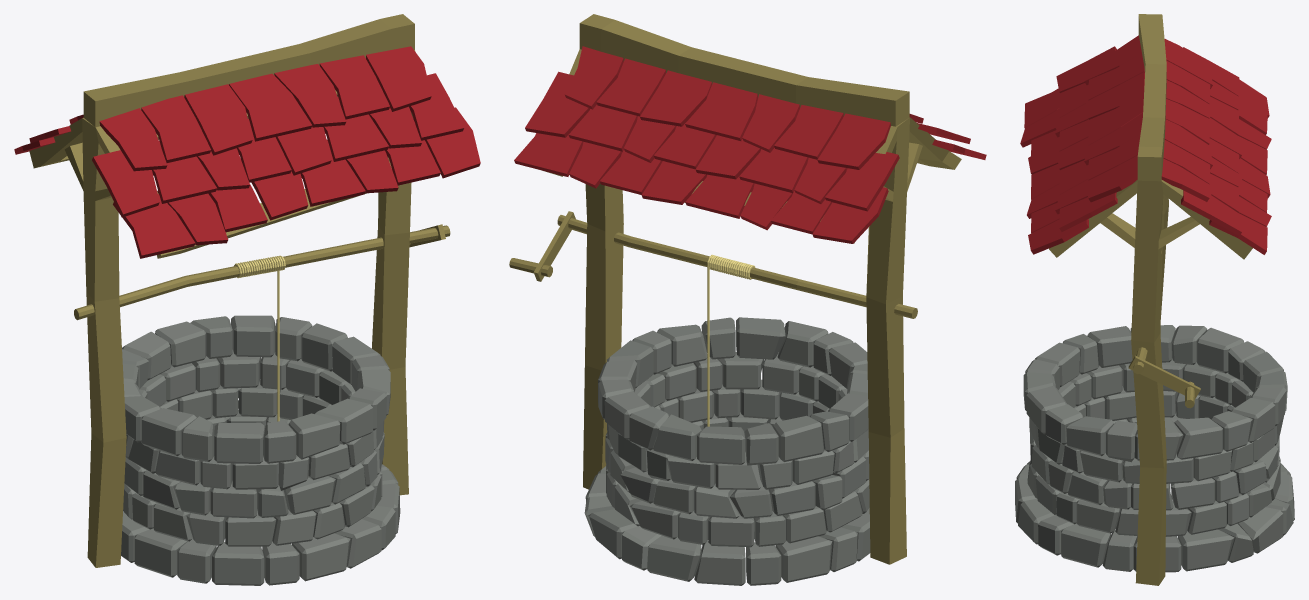
The model's file is waterwell.fbx.
The picture shows the model from 3 angles, left to right: view 1: azimuth 30°, elevation 25°; view 2: azimuth 150°, elevation 25°; view 3: azimuth 270°, elevation 25°; orthographic projection. The views are drawn at different scales.
Visible parts, largest first — view 1: Cube.003; view 2: Cube.003, Cube.008; view 3: Cube.003, Cube.008.
Part boxes in pixels (x1,y1,x2,y2): Cube.003: (14,14,480,585); Cube.003: (514,14,986,585); Cube.008: (509,211,575,281); Cube.003: (1015,14,1294,585); Cube.008: (1128,355,1200,408).
Size of the model in its own units: 1.57 by 1.78 by 1.05.
